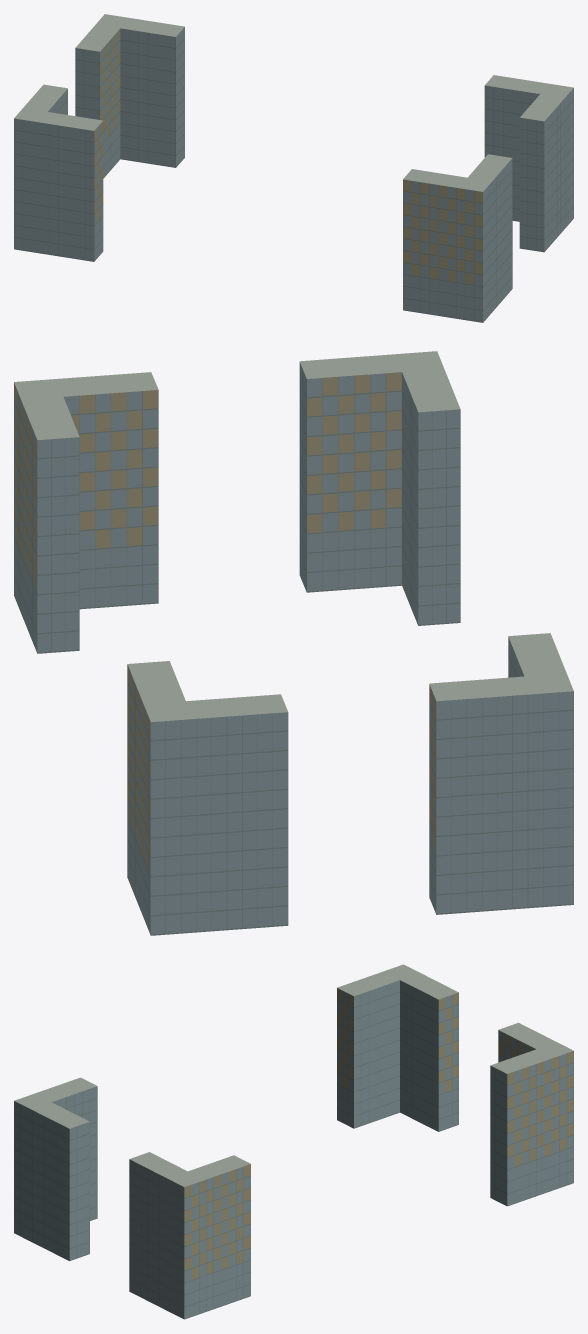
File: bibliotheque-nationale-francois-mitterrand-far.glb
3 renders of one model, top to bottom at view 1: azimuth 30°, elevation 25°; view 2: azimuth 150°, elevation 25°; view 3: azimuth 270°, elevation 25°, orthographic. The views are drawn at different scales.
Parts seen in each view (by area): view 1: bibliotheque-nationale-francois-mitterrand-0-glass, bibliotheque-nationale-francois-mitterrand-0-frame, bibliotheque-nationale-francois-mitterrand-0-roof, bibliotheque-nationale-francois-mitterrand-0-wood; view 2: bibliotheque-nationale-francois-mitterrand-0-glass, bibliotheque-nationale-francois-mitterrand-0-frame, bibliotheque-nationale-francois-mitterrand-0-wood, bibliotheque-nationale-francois-mitterrand-0-roof; view 3: bibliotheque-nationale-francois-mitterrand-0-glass, bibliotheque-nationale-francois-mitterrand-0-frame, bibliotheque-nationale-francois-mitterrand-0-wood, bibliotheque-nationale-francois-mitterrand-0-roof.
Boxes of the visible parts, x1=… form: bibliotheque-nationale-francois-mitterrand-0-glass: x1=14, y1=27, x2=573, y2=321; bibliotheque-nationale-francois-mitterrand-0-frame: x1=14, y1=30, x2=573, y2=322; bibliotheque-nationale-francois-mitterrand-0-roof: x1=14, y1=14, x2=573, y2=191; bibliotheque-nationale-francois-mitterrand-0-wood: x1=94, y1=29, x2=482, y2=284; bibliotheque-nationale-francois-mitterrand-0-glass: x1=14, y1=362, x2=573, y2=934; bibliotheque-nationale-francois-mitterrand-0-frame: x1=14, y1=372, x2=573, y2=935; bibliotheque-nationale-francois-mitterrand-0-wood: x1=14, y1=372, x2=436, y2=868; bibliotheque-nationale-francois-mitterrand-0-roof: x1=14, y1=351, x2=573, y2=721; bibliotheque-nationale-francois-mitterrand-0-glass: x1=14, y1=980, x2=573, y2=1318; bibliotheque-nationale-francois-mitterrand-0-frame: x1=14, y1=983, x2=573, y2=1319; bibliotheque-nationale-francois-mitterrand-0-wood: x1=184, y1=988, x2=573, y2=1279; bibliotheque-nationale-francois-mitterrand-0-roof: x1=14, y1=964, x2=573, y2=1186.
Size of the model in its own units: 285 by 79 by 303.
